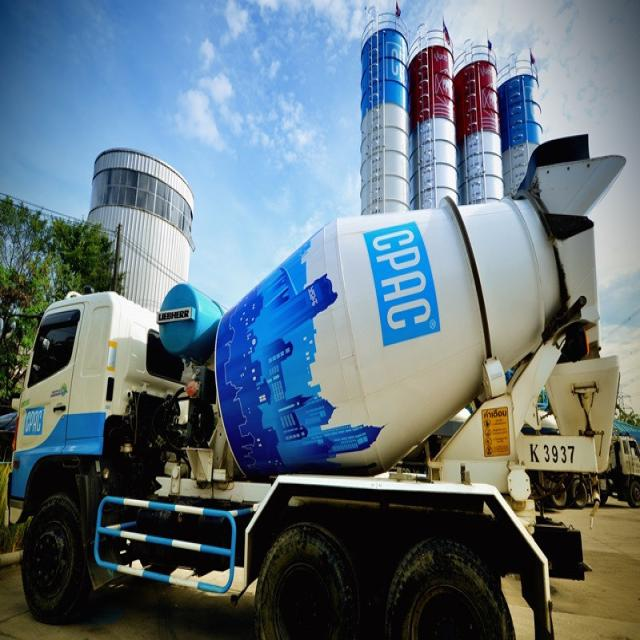cement_mixer_truck: (4, 130, 622, 640)
